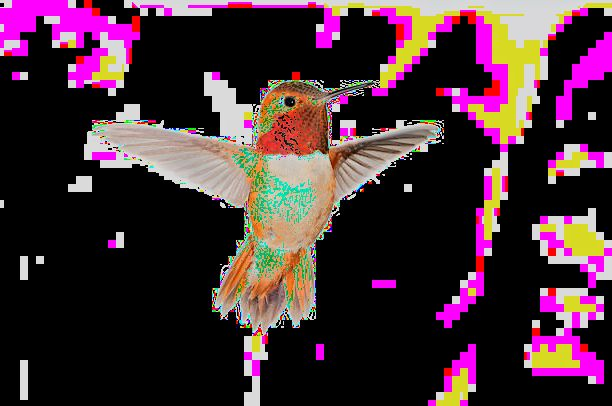Bird: (88, 78, 443, 352)
